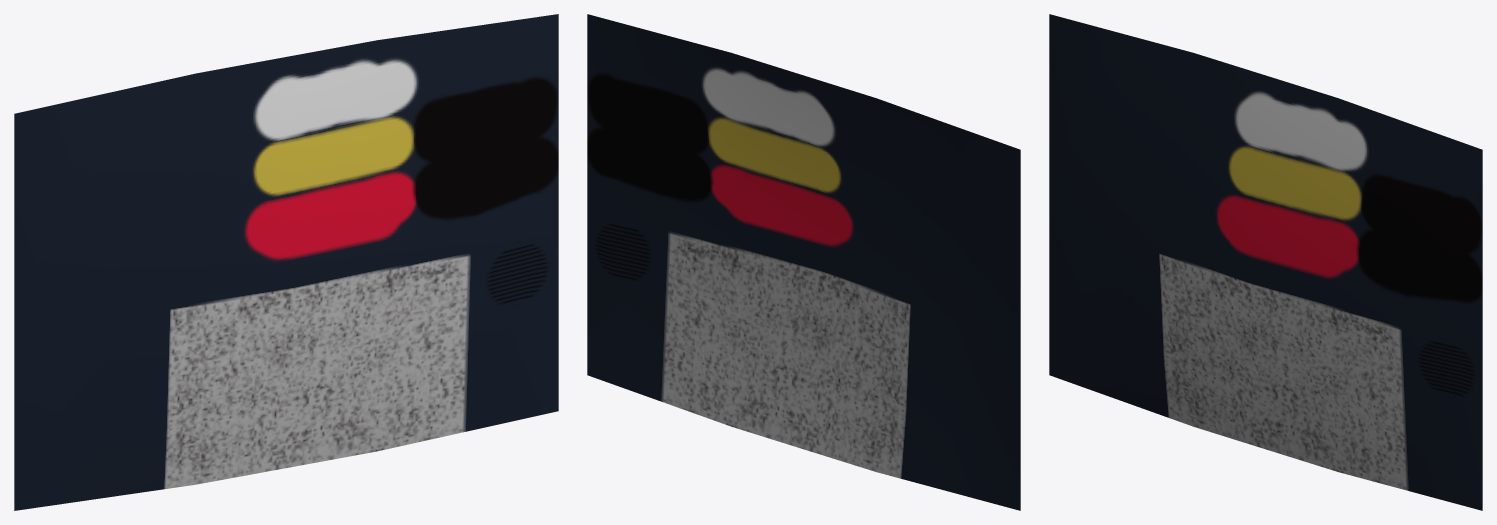
Rendered from TVScreen.fbx.
3 renders of one model, left to right at view 1: azimuth 30°, elevation 25°; view 2: azimuth 150°, elevation 25°; view 3: azimuth 330°, elevation 25°, orthographic. The views are drawn at different scales.
Visible parts, largest first — view 1: pCube90; view 2: pCube90; view 3: pCube90.
Boxes of the visible parts, left/top/right/bottom form: pCube90: left=14, top=14, right=558, bottom=510; pCube90: left=587, top=14, right=1020, bottom=510; pCube90: left=1049, top=14, right=1482, bottom=510.
Bounding box in the file's own units: 0.3264 × 0.2512 × 0.0392.
